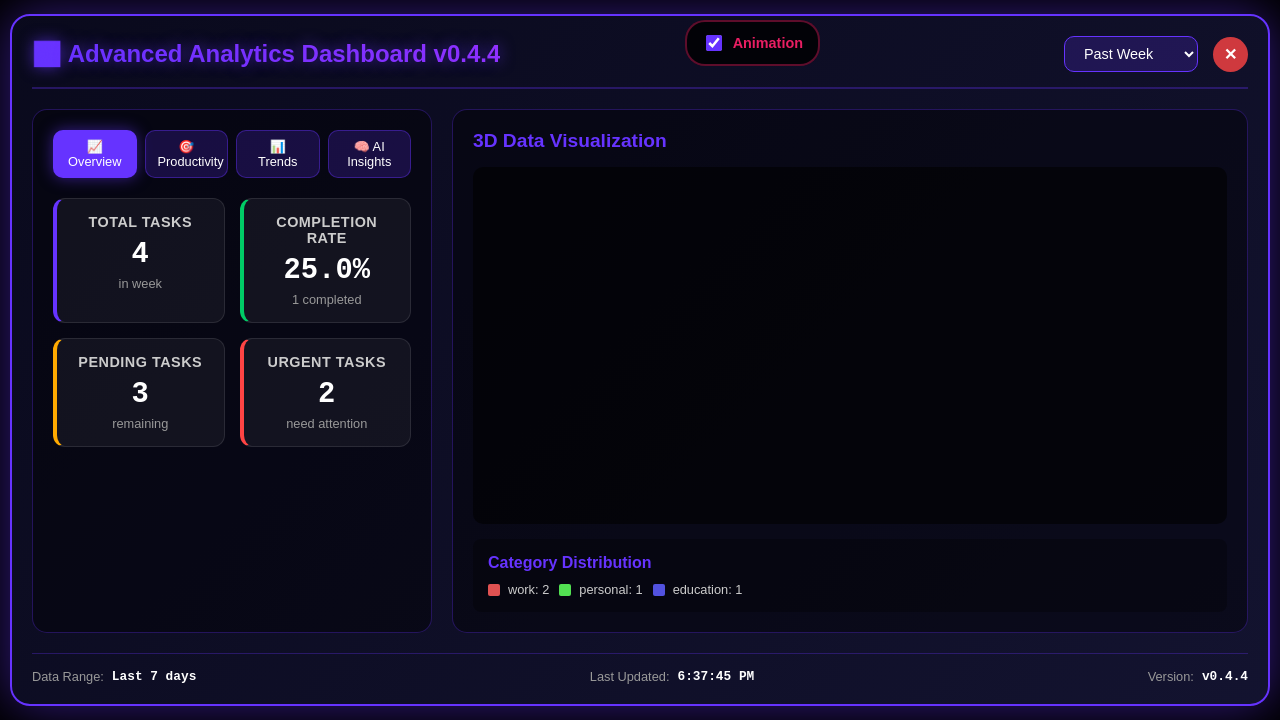
Test: AdvancedAnalyticsDashboard › displays AI insights
Click the button "🧠 AI Insights" at (369, 154), box [328,130,411,178]
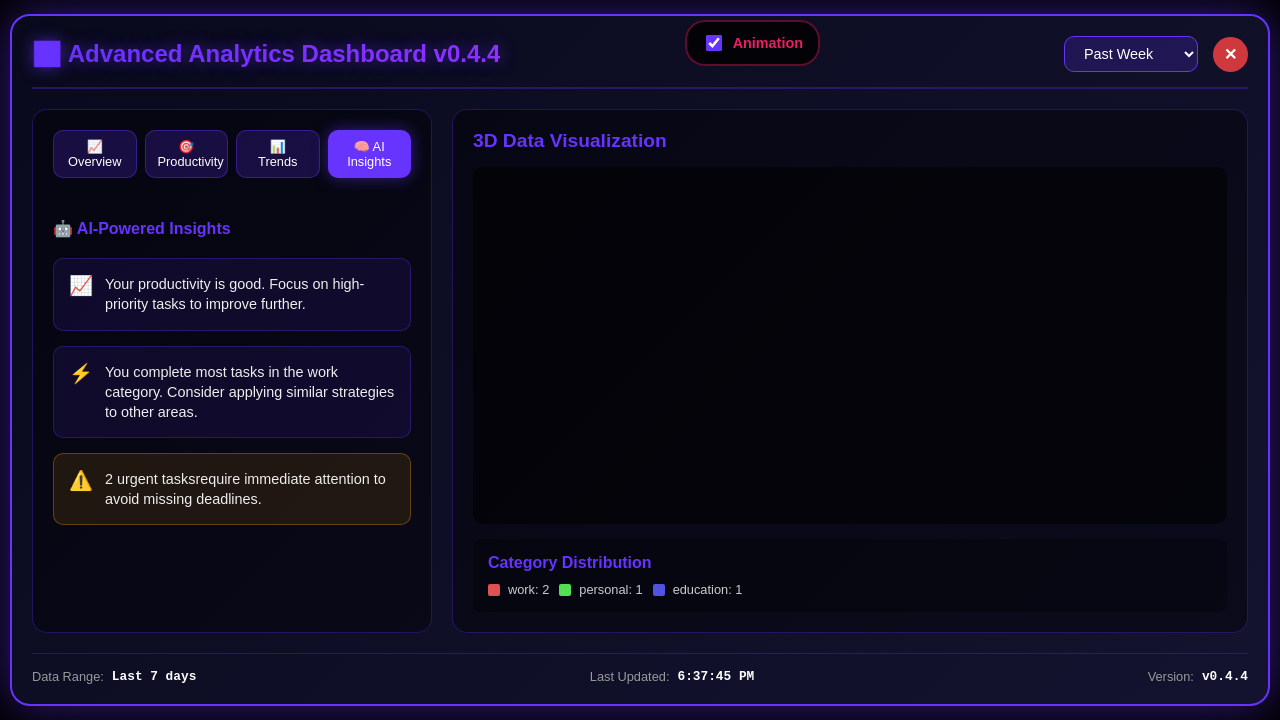
Expected: the text "Your productivity is" is shown, [105,276,229,292]
Expected: the text "You complete most tasks" is shown, [105,364,308,380]
